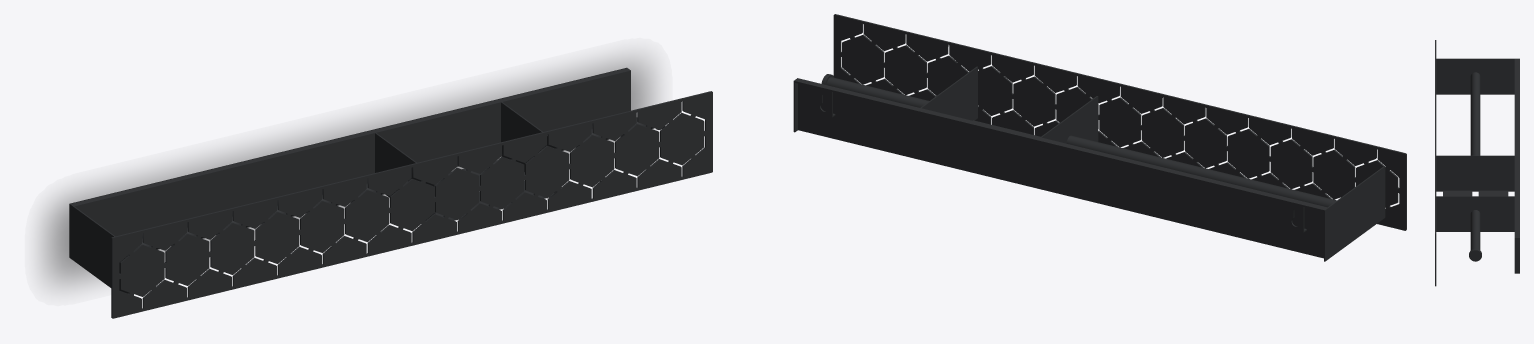
Rendered from bee-trio.f0cff35ef9.ar.glb.
The picture shows the model from 3 angles, left to right: view 1: azimuth 30°, elevation 25°; view 2: azimuth 150°, elevation 25°; view 3: azimuth 270°, elevation 25°; orthographic projection. The views are drawn at different scales.
Visible parts, largest first — view 1: NAUO1, object 2; view 2: NAUO1; view 3: NAUO1.
Boxes of the visible parts, x1,y1,x2,y2 form: NAUO1: (69,67,712,318); object 2: (41,57,656,286); NAUO1: (793,14,1406,261); NAUO1: (1435,40,1519,286).
Bounding box in the file's own units: 0.78 × 0.17 × 0.13.
Materials: 2 (1 with a texture image).
